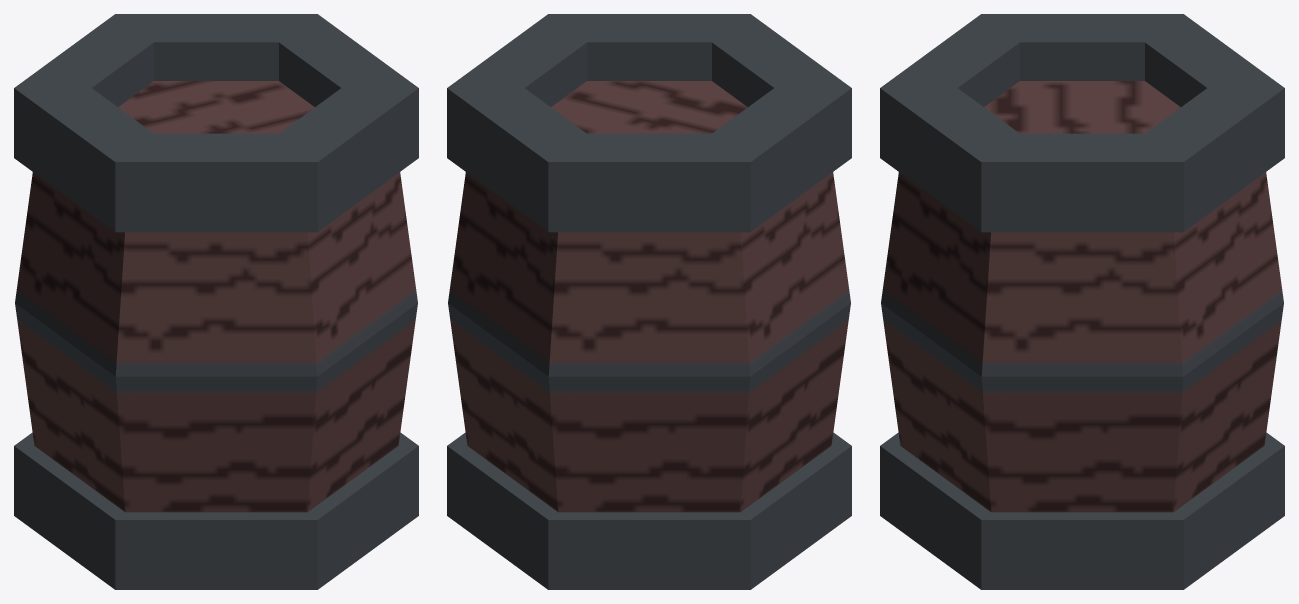
The model's file is Barrel.fbx.
3 renders of one model, left to right at view 1: azimuth 30°, elevation 25°; view 2: azimuth 150°, elevation 25°; view 3: azimuth 270°, elevation 25°, orthographic.
Visible parts, largest first — view 1: Barrel; view 2: Barrel; view 3: Barrel.
Boxes of the visible parts, x1,y1,x2,y2 form: Barrel: [14, 14, 418, 589]; Barrel: [447, 14, 851, 589]; Barrel: [880, 14, 1284, 589].
Size of the model in its own units: 0.2522 by 0.2912 by 0.3396.
1 material, 1 textured.
